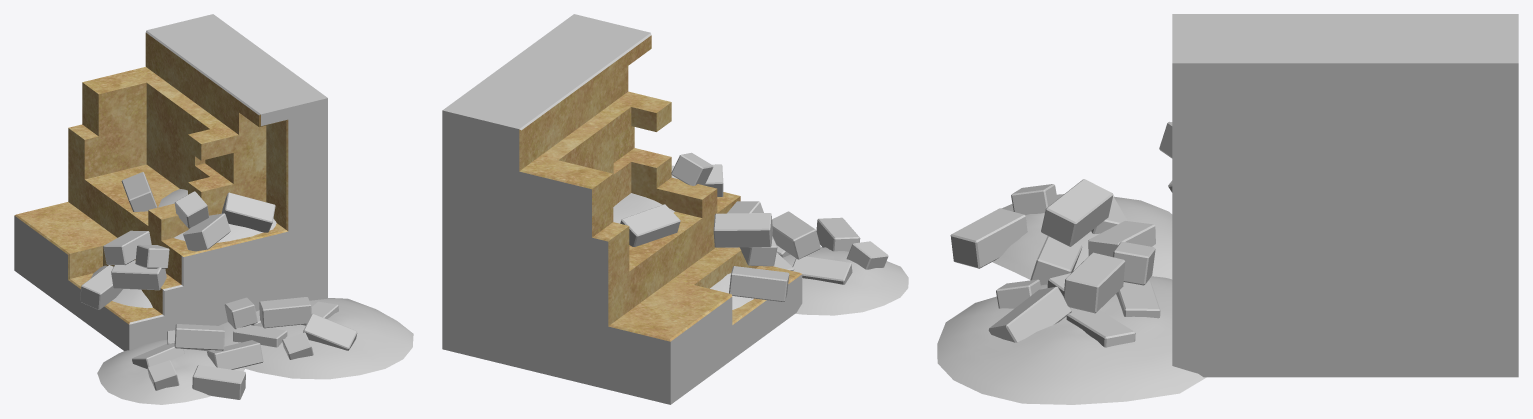
The model's file is Rubble01.fbx.
3 views of the same model, side by side, from view 1: azimuth 30°, elevation 25°; view 2: azimuth 150°, elevation 25°; view 3: azimuth 270°, elevation 25° (orthographic). The views are drawn at different scales.
Parts seen in each view (by area): view 1: Rubble01, BreakWall, sand02, sand01, brick04, brick13, brick09, brick12, brick14, brick10, brick07, brick03 (+13 smaller); view 2: BreakWall, Rubble01, sand01, brick15, brick21, brick11, brick14, brick01, brick13, brick19, brick16, sand04 (+3 smaller); view 3: BreakWall, sand02, sand01, brick14, brick13, brick09, brick10, brick02, brick06, brick07, brick17, brick08 (+2 smaller).
Boxes of the visible parts, bbox=[...] form: Rubble01: bbox=[14, 33, 288, 324]; BreakWall: bbox=[14, 14, 327, 350]; sand02: bbox=[219, 298, 413, 379]; sand01: bbox=[97, 340, 244, 404]; brick04: bbox=[222, 192, 275, 232]; brick13: bbox=[192, 365, 245, 399]; brick09: bbox=[259, 297, 311, 328]; brick12: bbox=[111, 260, 166, 290]; brick14: bbox=[174, 324, 225, 350]; brick10: bbox=[303, 313, 357, 350]; brick07: bbox=[207, 340, 263, 369]; brick03: bbox=[183, 213, 230, 251]; BreakWall: bbox=[442, 14, 802, 404]; Rubble01: bbox=[519, 35, 801, 341]; sand01: bbox=[783, 247, 908, 315]; brick15: bbox=[713, 213, 772, 247]; brick21: bbox=[729, 266, 789, 301]; brick11: bbox=[620, 204, 680, 246]; brick14: bbox=[772, 211, 820, 259]; brick01: bbox=[792, 256, 852, 284]; brick13: bbox=[816, 217, 860, 251]; brick19: bbox=[671, 152, 713, 185]; brick16: bbox=[846, 241, 888, 269]; sand04: bbox=[613, 193, 674, 223]; BreakWall: bbox=[1172, 14, 1518, 377]; sand02: bbox=[937, 276, 1206, 404]; sand01: bbox=[992, 194, 1172, 279]; brick14: bbox=[1041, 179, 1113, 246]; brick13: bbox=[950, 208, 1027, 268]; brick09: bbox=[1063, 252, 1125, 313]; brick10: bbox=[988, 286, 1071, 342]; brick02: bbox=[1088, 221, 1155, 256]; brick06: bbox=[1066, 310, 1135, 347]; brick07: bbox=[1030, 236, 1082, 285]; brick17: bbox=[1113, 241, 1155, 285]; brick08: bbox=[1116, 281, 1160, 318].
Bounding box in the file's own units: 1381 × 966 × 1595.
